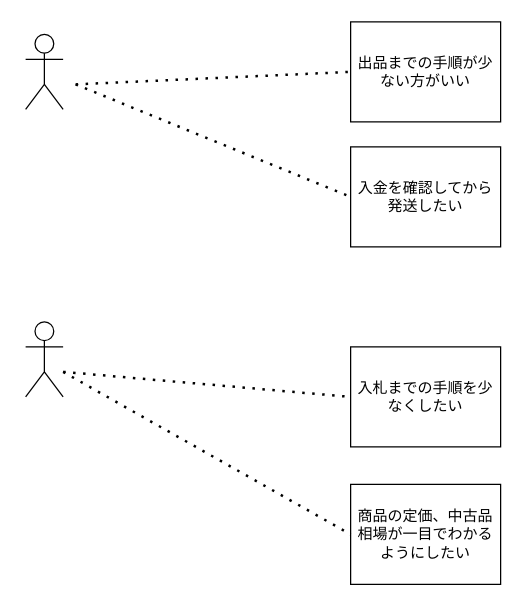
This 523x606 diagram has some shape labels left out. The shapes that lost their labels are listed below. From the top down, each one's box as (x1, y1, x2, y2) in pixels, then its label:
(24, 33, 63, 109): 出品者
(24, 321, 63, 397): 入札者
